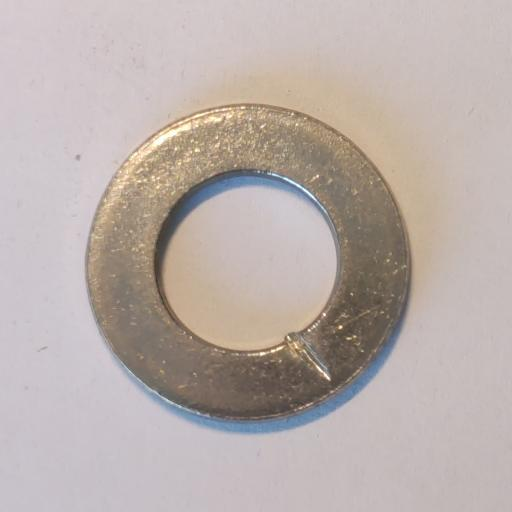scratch: (285, 332, 332, 382)
